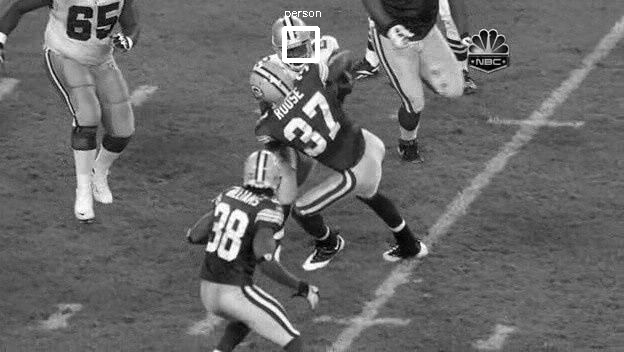person: (275, 21, 312, 68), (274, 21, 311, 68), (276, 21, 313, 68), (275, 20, 312, 67), (275, 22, 312, 69)
target_negative: (35, 1, 552, 160), (46, 37, 483, 168), (26, 25, 105, 179), (598, 254, 624, 279), (544, 285, 549, 287)
